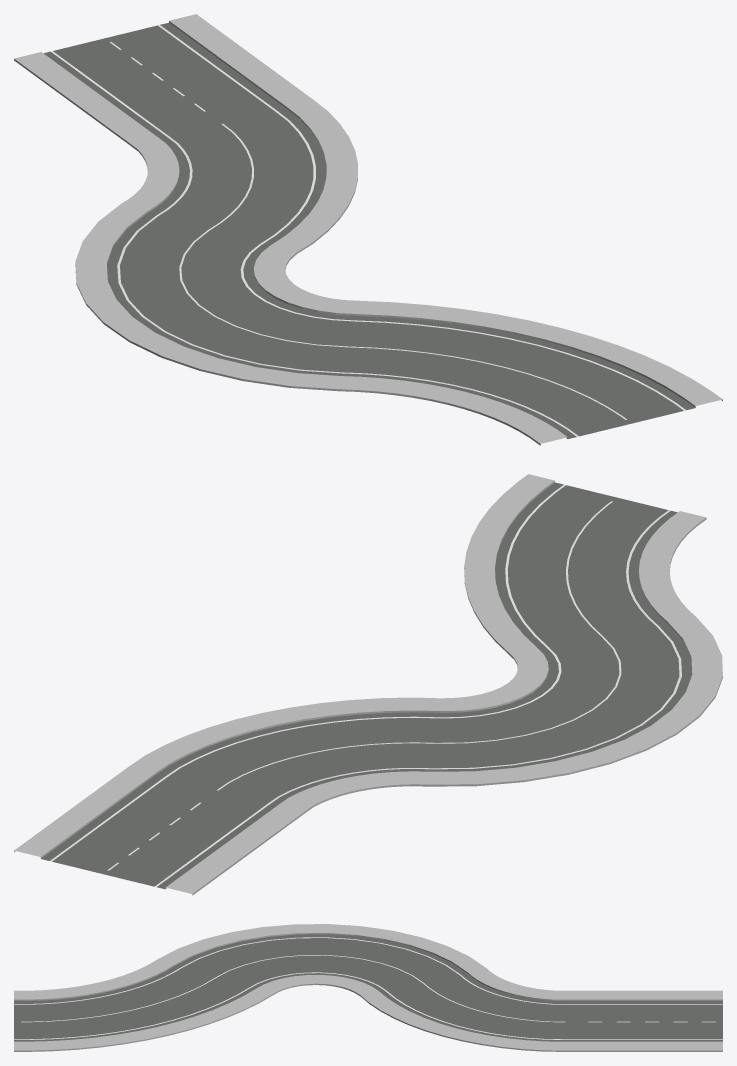
The model's file is Straight_Wonky.fbx.
3 views of the same model, one above another, from view 1: azimuth 30°, elevation 25°; view 2: azimuth 150°, elevation 25°; view 3: azimuth 270°, elevation 25° (orthographic). The views are drawn at different scales.
Visible parts, largest first — view 1: Plane.003; view 2: Plane.003; view 3: Plane.003.
Boxes of the visible parts, x1,y1,x2,y2 form: Plane.003: [14, 14, 722, 445]; Plane.003: [14, 474, 722, 895]; Plane.003: [14, 924, 722, 1051].
Size of the model in its own units: 31.69 by 0.15 by 75.
